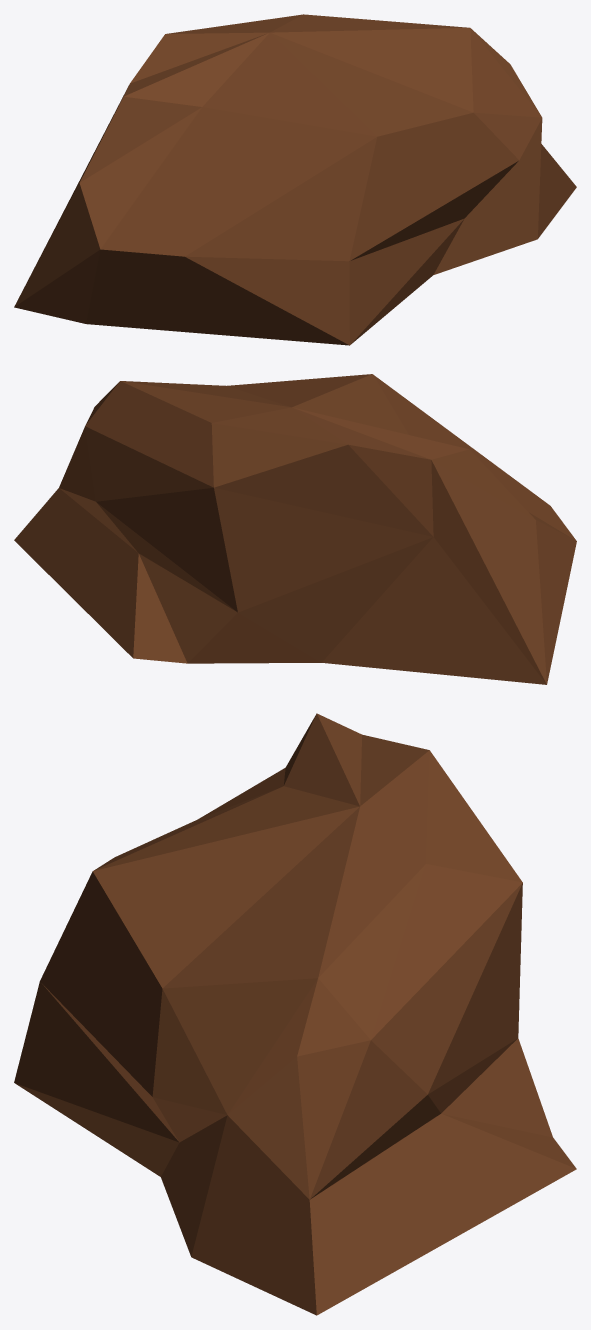
File: Rock_3.fbx
3 renders of one model, top to bottom at view 1: azimuth 30°, elevation 25°; view 2: azimuth 150°, elevation 25°; view 3: azimuth 270°, elevation 25°, orthographic. The views are drawn at different scales.
Parts seen in each view (by area): view 1: Rock_3; view 2: Rock_3; view 3: Rock_3.
Part boxes in pixels (x1,y1,x2,y2): Rock_3: (14, 14, 576, 345); Rock_3: (14, 374, 576, 684); Rock_3: (14, 713, 576, 1315).
Size of the model in its own units: 3516 by 1321 by 2199.
